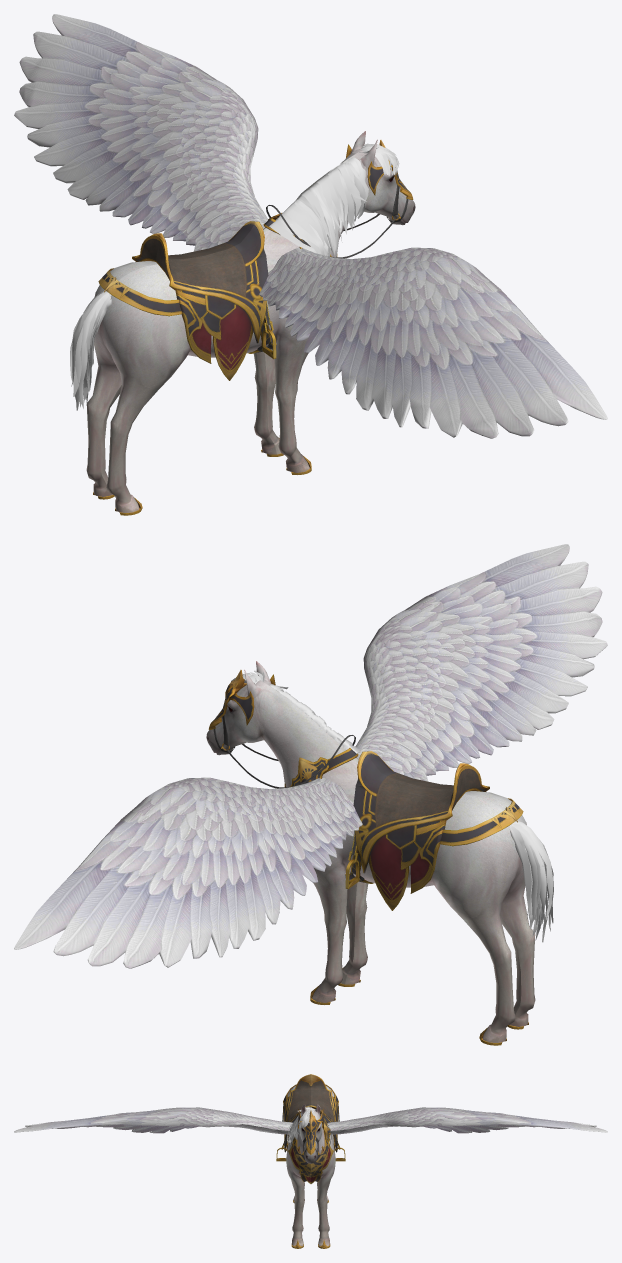
The picture shows the model from 3 angles, top to bottom: view 1: azimuth 30°, elevation 25°; view 2: azimuth 150°, elevation 25°; view 3: azimuth 270°, elevation 25°; orthographic projection. The views are drawn at different scales.
Parts seen in each view (by area): view 1: PEGASUS_D2784361; view 2: PEGASUS_D2784361; view 3: PEGASUS_D2784361.
Boxes of the visible parts, x1,y1,x2,y2 form: PEGASUS_D2784361: (14,14,607,515); PEGASUS_D2784361: (14,544,607,1045); PEGASUS_D2784361: (14,1074,607,1248).
Bounding box in the file's own units: 2.47 × 2.1 × 6.89.
4 materials, 3 textured.
